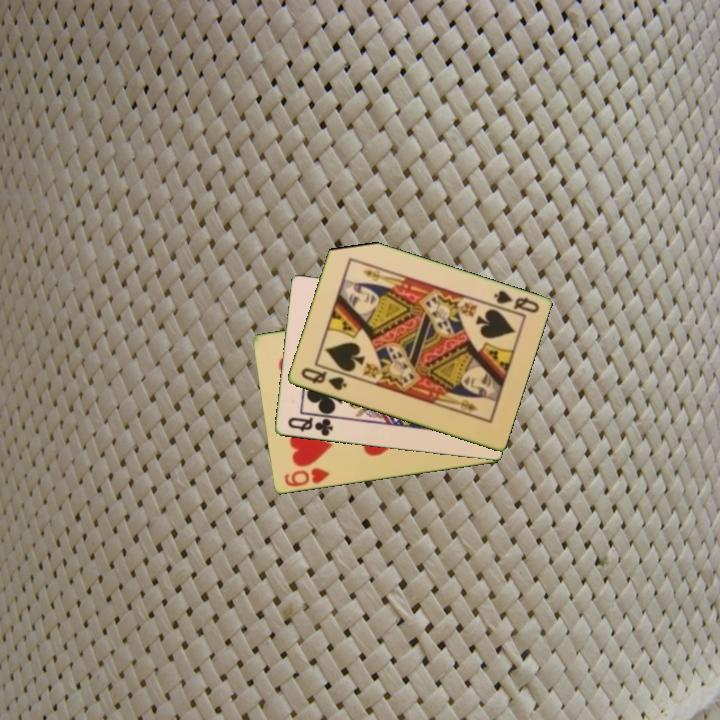6h: (281, 465, 332, 490)
Qc: (284, 414, 336, 439)
Qs: (486, 287, 542, 318), (297, 364, 349, 394)
